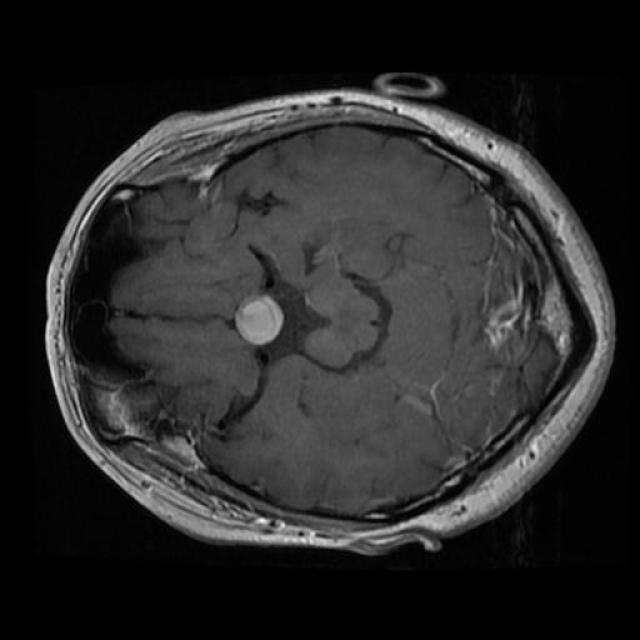Pituitary: (235, 294, 284, 346)
